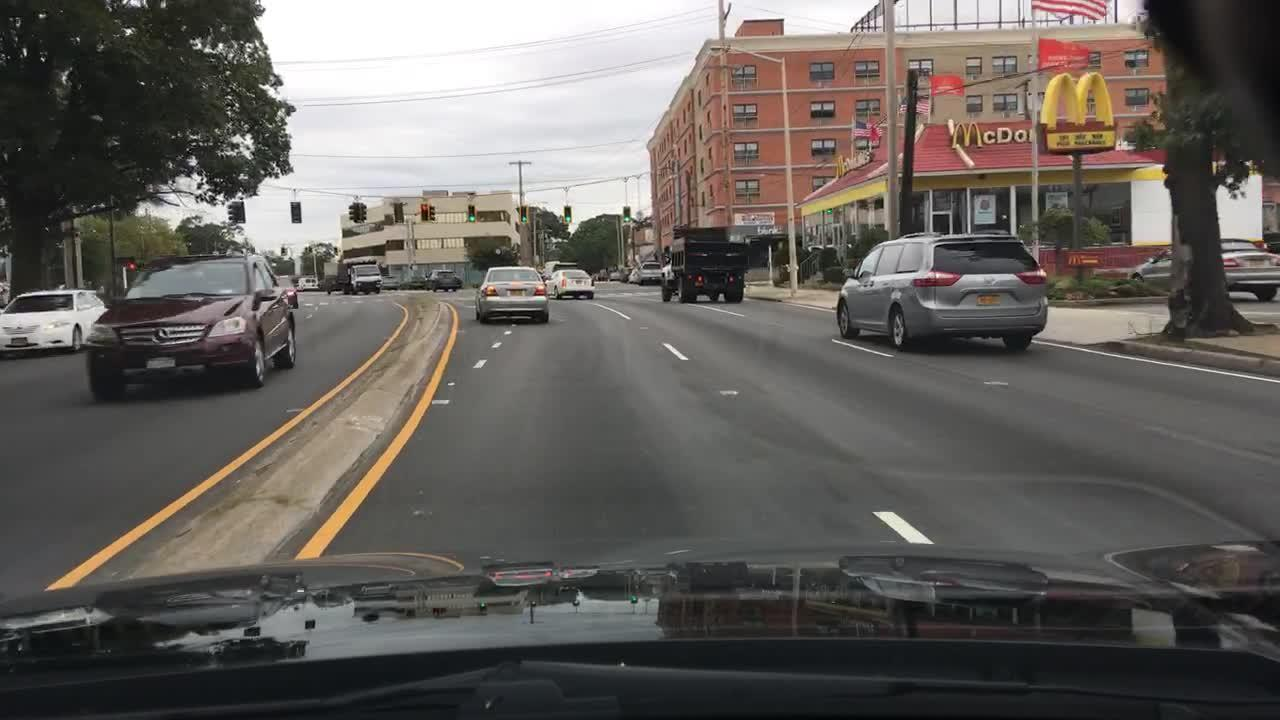Mercedes: (147, 324, 172, 349)
